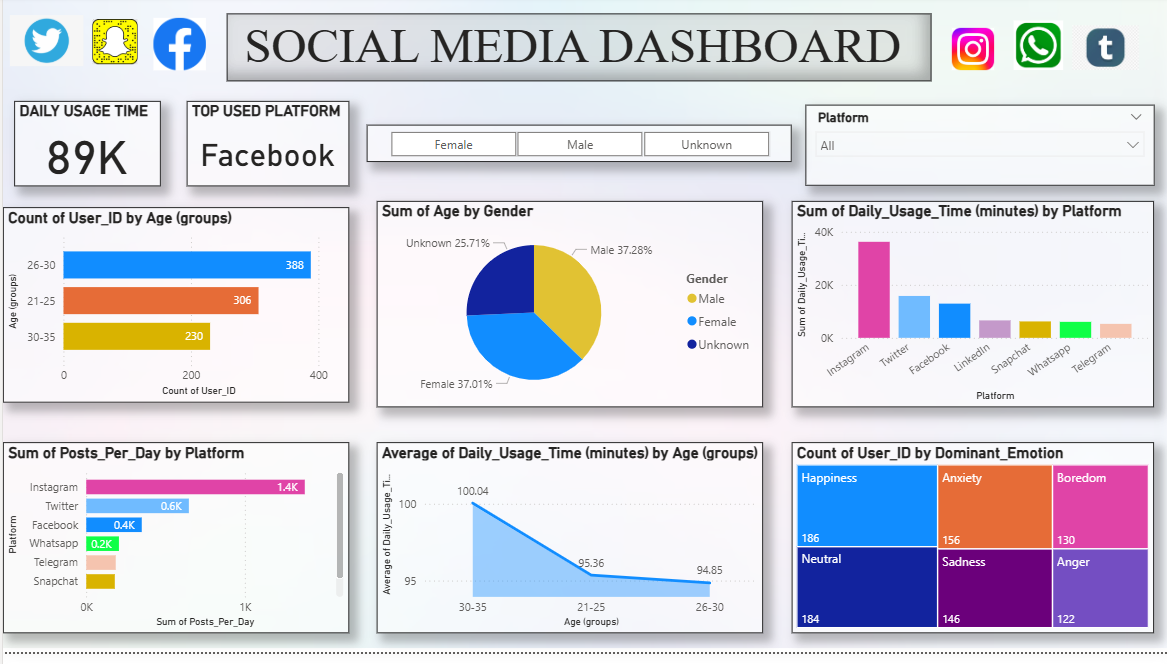

What the dashboard file says about the page in this screenshot:
{"tool":"powerbi","page":{"name":"Page 1","canvas":[1280,720],"ordinal":0},"visuals":[{"type":"textbox","box":[245.6,19.2,773.9,74.1],"z":0},{"type":"barChart","fields":{"Y":["CountNonNull(Social media.User_ID)"],"Category":["Social media.Age (groups)"]},"box":[0,231.9,380.1,214.1],"z":1000},{"type":"pieChart","fields":{"Category":["Social media.Gender"],"Y":["Sum(Social media.Age)"]},"box":[410.3,225,424,226.4],"z":2000},{"type":"columnChart","fields":{"Category":["Social media.Platform"],"Y":["Sum(Social media.Daily_Usage_Time (minutes))"]},"box":[865.9,225,397.9,226.4],"z":3000},{"type":"barChart","fields":{"Category":["Social media.Platform"],"Y":["Sum(Social media.Posts_Per_Day)"]},"box":[0,489.9,380.1,209.9],"z":4000},{"type":"areaChart","fields":{"Category":["Social media.Age (groups)"],"Y":["Avg(Social media.Daily_Usage_Time (minutes))"]},"box":[410.3,489.9,424,209.9],"z":5000},{"type":"treemap","fields":{"Group":["Social media.Dominant_Emotion"],"Values":["CountNonNull(Social media.User_ID)"]},"box":[865.9,489.9,397.9,209.9],"z":6000},{"type":"card","title":"DAILY USAGE TIME","fields":{"Values":["Sum(Social media.Daily_Usage_Time (minutes))"]},"box":[12.3,115.3,160.5,93.3],"z":7000},{"type":"card","title":"TOP USED PLATFORM","fields":{"Values":["Min(Social media.Platform)"]},"box":[201.7,115.3,178.4,93.3],"z":8000},{"type":"slicer","fields":{"Values":["Social media.Platform"]},"box":[881,119.4,382.8,89.2],"z":9000},{"type":"slicer","fields":{"Values":["Social media.Gender"]},"box":[399.3,141.3,466.6,41.2],"z":10000},{"type":"image","box":[2.7,8.2,90.6,82.3],"z":11000},{"type":"image","box":[93.3,16.5,59,67.2],"z":12000},{"type":"image","box":[152.3,19.2,83.7,67.2],"z":13000},{"type":"image","box":[1036,30.2,57.6,56.3],"z":14000},{"type":"image","box":[1104.6,16.5,64.5,75.5],"z":15000},{"type":"image","box":[1169.1,17.8,82.3,78.2],"z":16000}]}

Visuals, with their boxes in screenshot pixels (x1, y1, x2, y2), scaled from the page's 1280x720 canvas onto the 1167x664 screenshot:
textbox: {"left": 224, "top": 18, "right": 929, "bottom": 86}
barChart - CountNonNull(Social media.User_ID) x Social media.Age (groups): {"left": 0, "top": 214, "right": 347, "bottom": 411}
pieChart - Social media.Gender x Sum(Social media.Age): {"left": 374, "top": 208, "right": 761, "bottom": 416}
columnChart - Social media.Platform x Sum(Social media.Daily_Usage_Time (minutes)): {"left": 789, "top": 208, "right": 1152, "bottom": 416}
barChart - Social media.Platform x Sum(Social media.Posts_Per_Day): {"left": 0, "top": 452, "right": 347, "bottom": 645}
areaChart - Social media.Age (groups) x Avg(Social media.Daily_Usage_Time (minutes)): {"left": 374, "top": 452, "right": 761, "bottom": 645}
treemap - Social media.Dominant_Emotion x CountNonNull(Social media.User_ID): {"left": 789, "top": 452, "right": 1152, "bottom": 645}
"DAILY USAGE TIME" card: {"left": 11, "top": 106, "right": 158, "bottom": 192}
"TOP USED PLATFORM" card: {"left": 184, "top": 106, "right": 347, "bottom": 192}
slicer - Social media.Platform: {"left": 803, "top": 110, "right": 1152, "bottom": 192}
slicer - Social media.Gender: {"left": 364, "top": 130, "right": 789, "bottom": 168}
image: {"left": 2, "top": 8, "right": 85, "bottom": 83}
image: {"left": 85, "top": 15, "right": 139, "bottom": 77}
image: {"left": 139, "top": 18, "right": 215, "bottom": 80}
image: {"left": 945, "top": 28, "right": 997, "bottom": 80}
image: {"left": 1007, "top": 15, "right": 1066, "bottom": 85}
image: {"left": 1066, "top": 16, "right": 1141, "bottom": 89}
